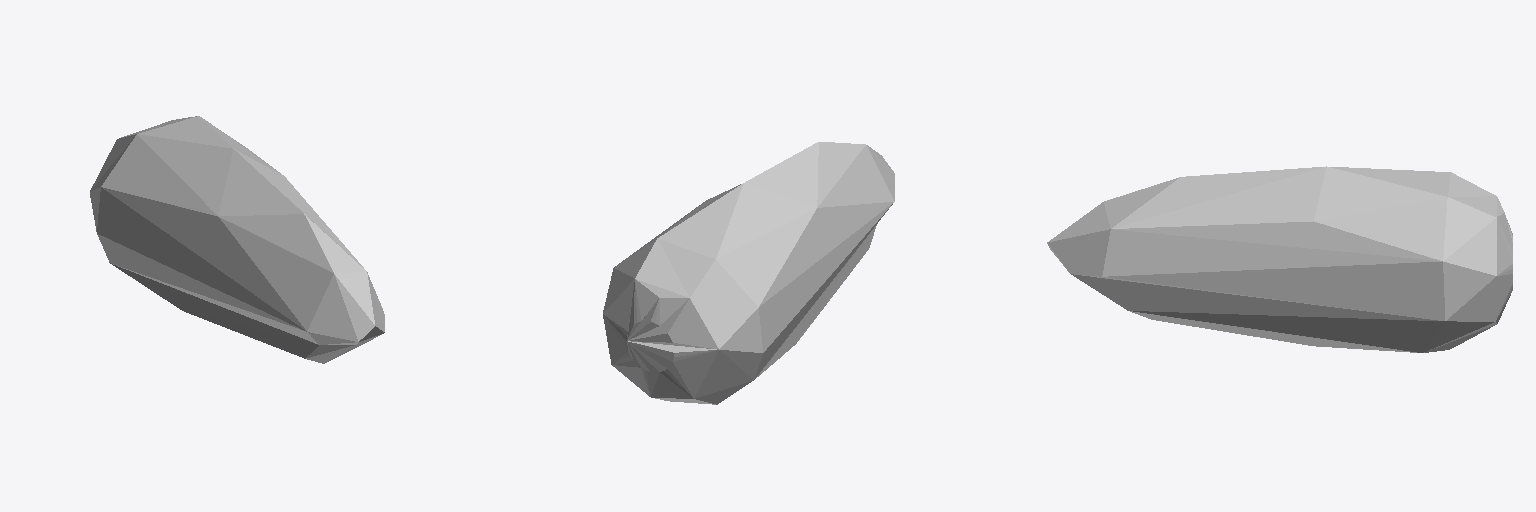
File: boidHeadLo.obj
3 views of the same model, side by side, from view 1: azimuth 30°, elevation 25°; view 2: azimuth 150°, elevation 25°; view 3: azimuth 270°, elevation 25° (orthographic).
Parts seen in each view (by area): view 1: Cylinder1_default; view 2: Cylinder1_default; view 3: Cylinder1_default.
Boxes of the visible parts, <box> form: Cylinder1_default: <box>90,116,384,363</box>; Cylinder1_default: <box>603,142,894,404</box>; Cylinder1_default: <box>1047,166,1512,352</box>.
Size of the model in its own units: 0.6527 by 0.7264 by 1.71.